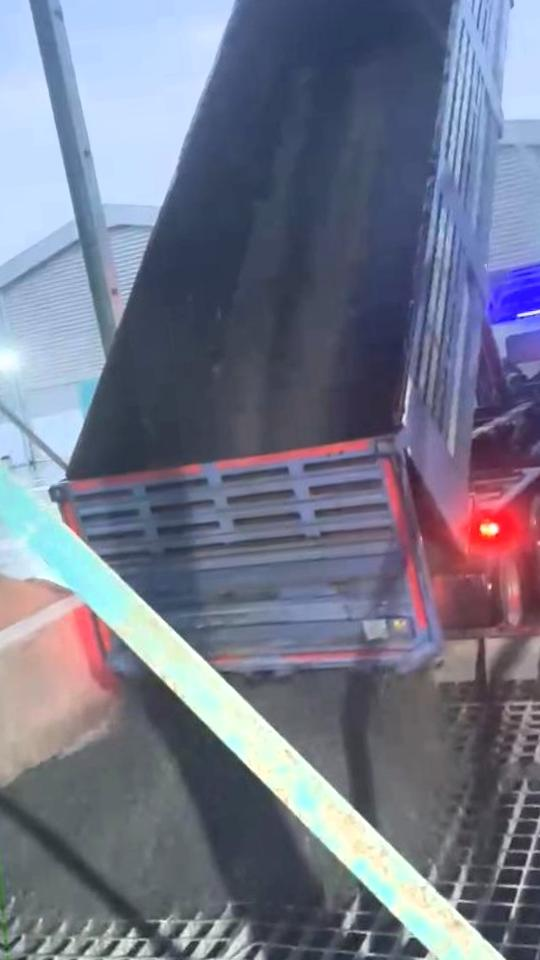gravel: (11, 670, 357, 916), (228, 669, 459, 872), (0, 814, 112, 917), (503, 758, 540, 786)
sand: (0, 566, 69, 641)
